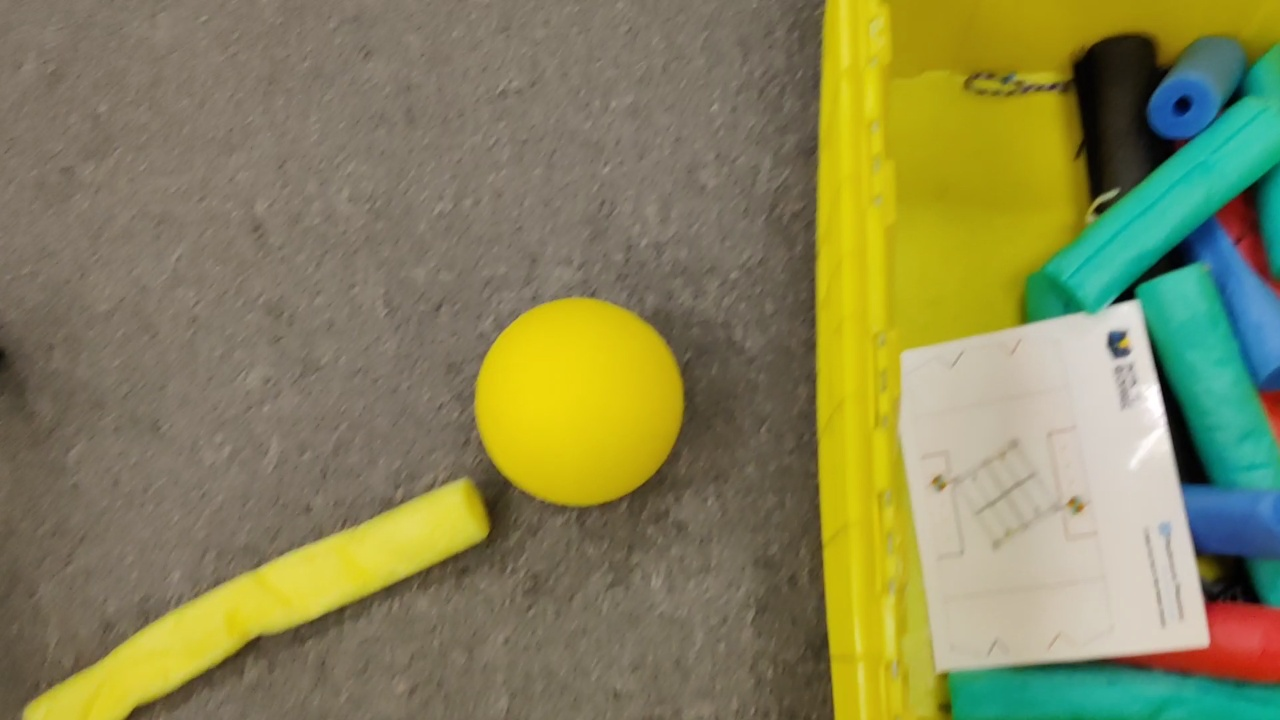Ball: (474, 297, 680, 508)
